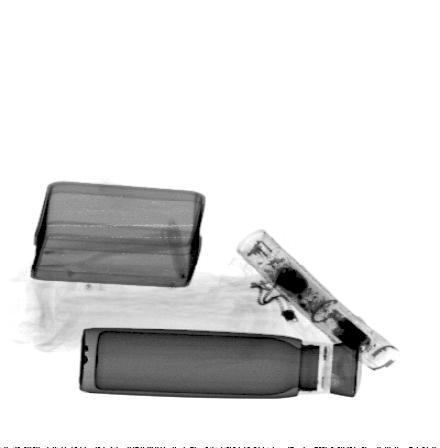Baton: (234, 227, 402, 376)
